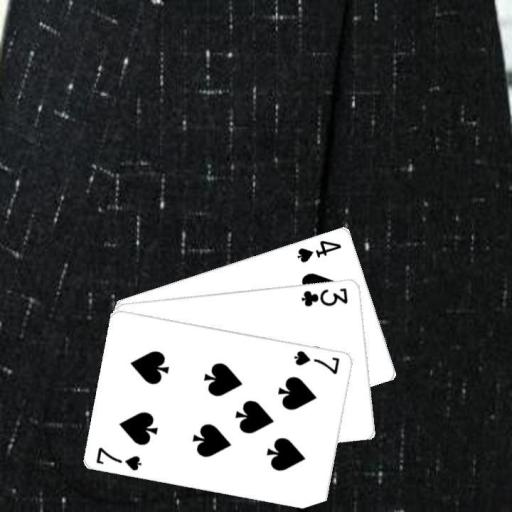3C: (299, 284, 350, 308)
4S: (294, 236, 344, 264)
7S: (291, 347, 342, 375), (93, 444, 144, 472)
